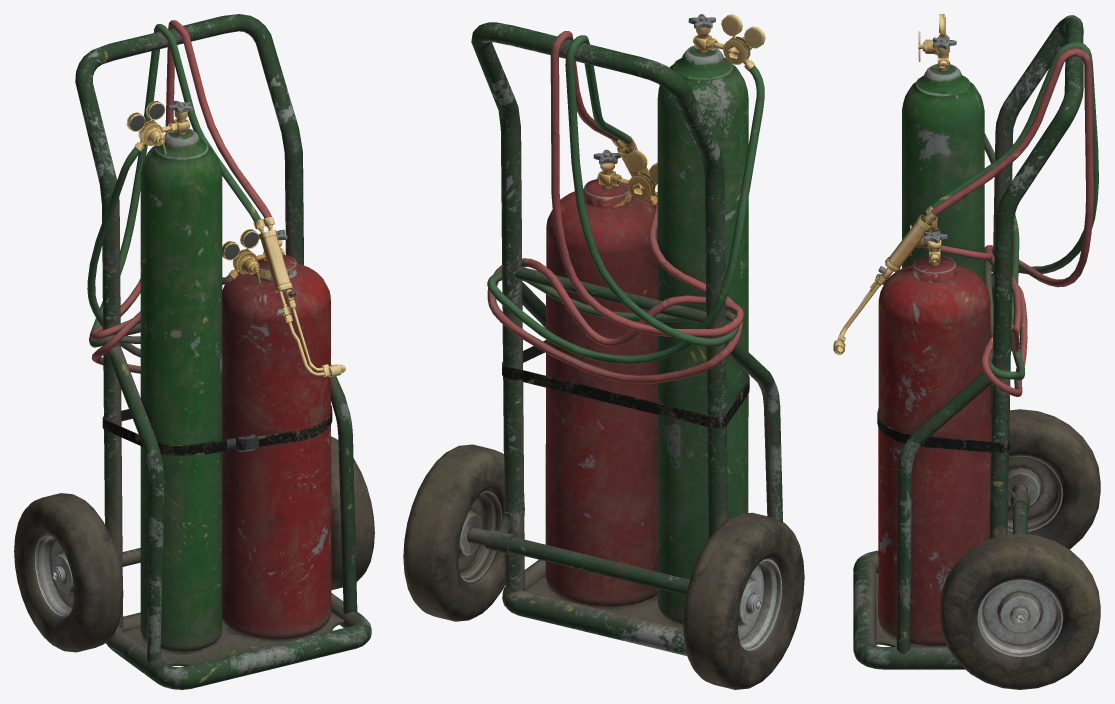
File: portable_welding_cart.glb
3 views of the same model, side by side, from view 1: azimuth 30°, elevation 25°; view 2: azimuth 150°, elevation 25°; view 3: azimuth 270°, elevation 25° (orthographic). The views are drawn at different scales.
Visible parts, largest first — view 1: portable_welding_cart; view 2: portable_welding_cart; view 3: portable_welding_cart.
Part boxes in pixels (left/top/right/bottom): portable_welding_cart: left=14, top=14, right=374, bottom=689; portable_welding_cart: left=403, top=14, right=804, bottom=689; portable_welding_cart: left=833, top=14, right=1100, bottom=689.
Bounding box in the file's own units: 0.8365 × 1.56 × 0.655.
Materials: 2 (2 with a texture image).
